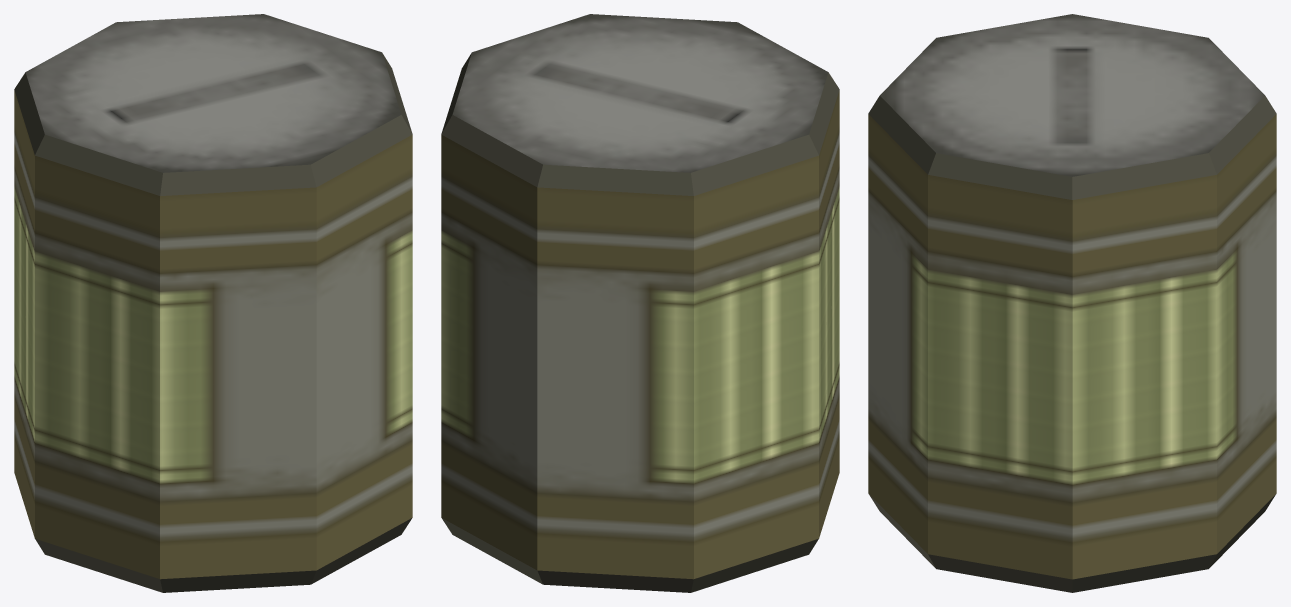
File: ArenaBattery.fbx
3 views of the same model, side by side, from view 1: azimuth 30°, elevation 25°; view 2: azimuth 150°, elevation 25°; view 3: azimuth 270°, elevation 25° (orthographic).
Visible parts, largest first — view 1: Cylinder; view 2: Cylinder; view 3: Cylinder.
Part boxes in pixels (bbox=[...]): Cylinder: bbox=[14, 14, 412, 592]; Cylinder: bbox=[441, 14, 839, 592]; Cylinder: bbox=[868, 14, 1276, 592].
Size of the model in its own units: 53.05 by 59.61 by 53.05.
